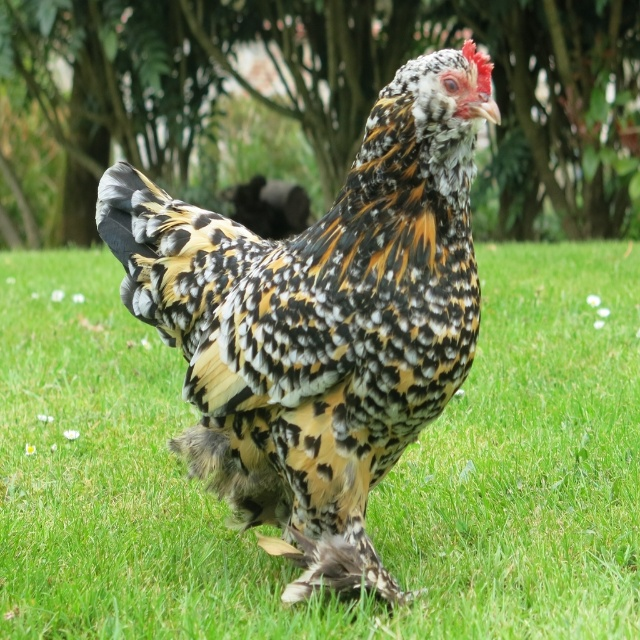Chicken: (103, 31, 488, 599)
